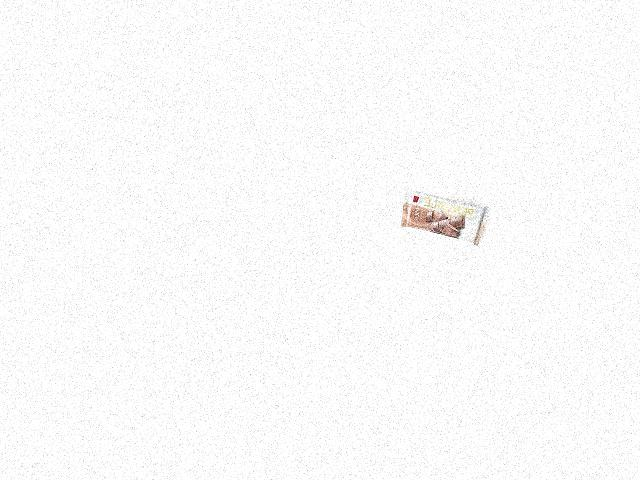chocolate: (400, 185, 482, 252)
